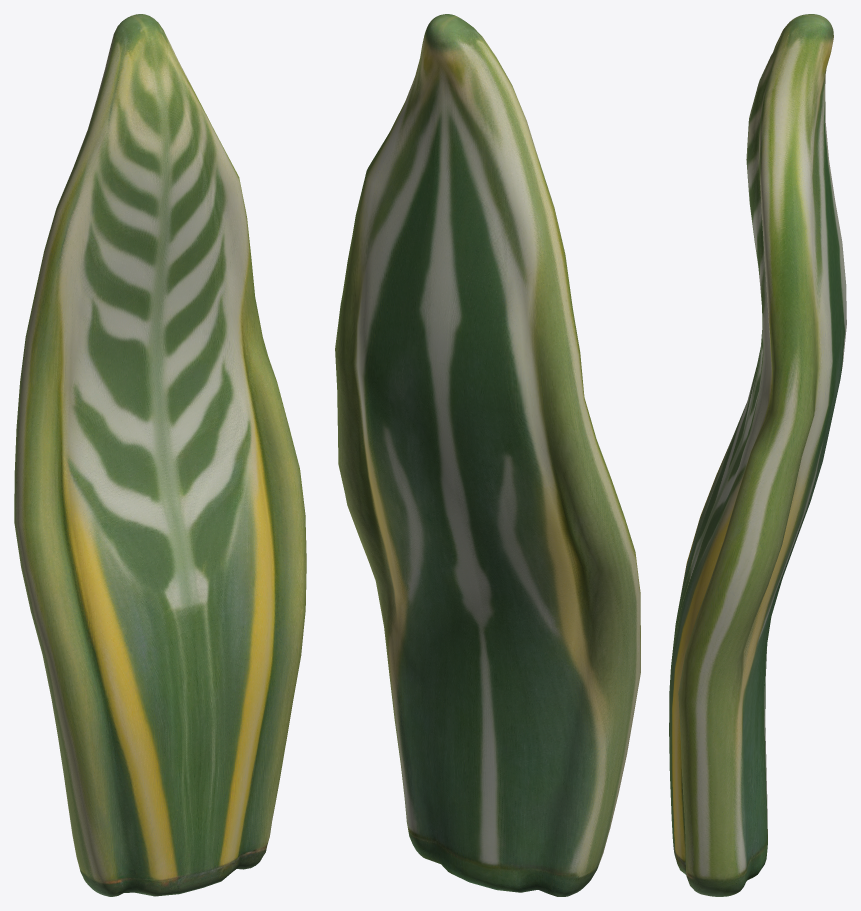
File: T1_sanse_meshy5_1500_prompt.glb
3 renders of one model, left to right at view 1: azimuth 30°, elevation 25°; view 2: azimuth 150°, elevation 25°; view 3: azimuth 270°, elevation 25°, orthographic. The views are drawn at different scales.
Size of the model in its own units: 0.682 by 2 by 0.3782.
Materials: 1 (1 with a texture image).
